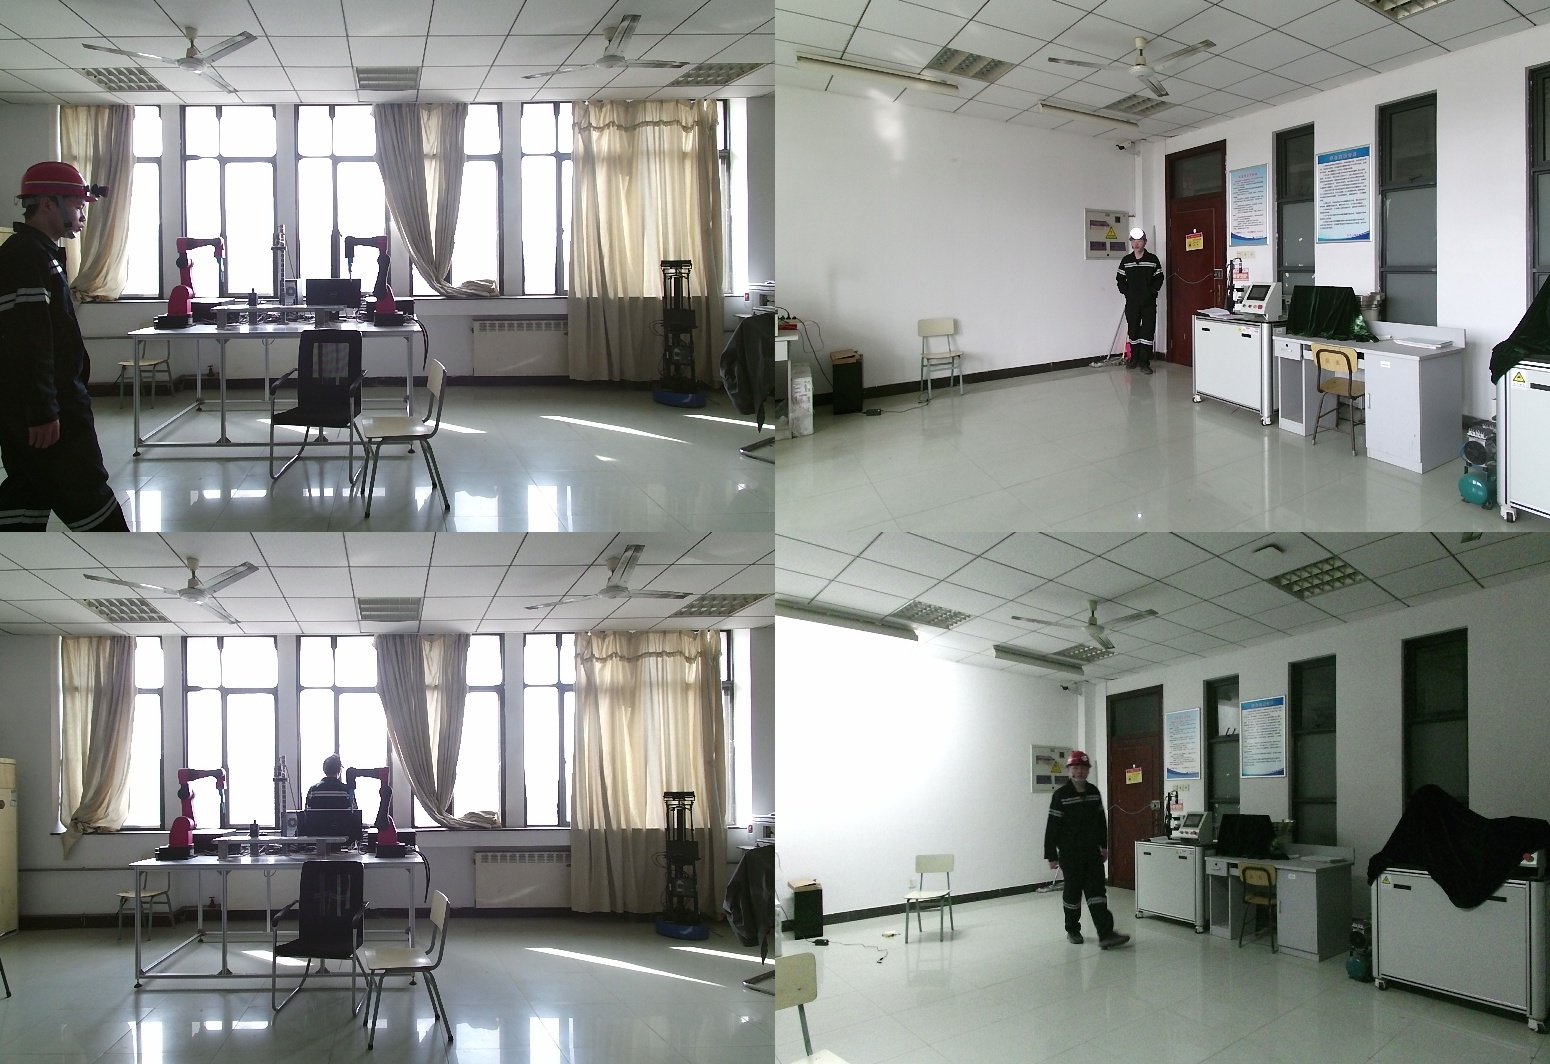person: (1, 163, 131, 532), (1040, 753, 1133, 953), (1117, 233, 1162, 371), (299, 754, 364, 841)
